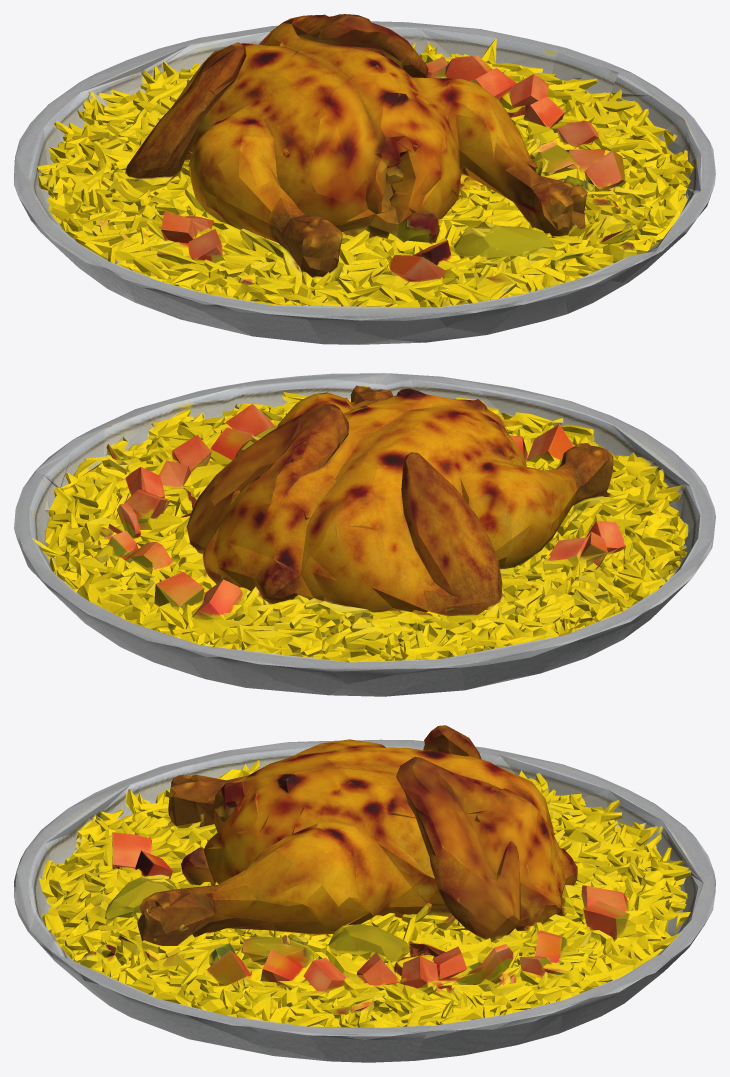
Rendered from chicken-rice-693240.glb.
3 renders of one model, top to bottom at view 1: azimuth 30°, elevation 25°; view 2: azimuth 150°, elevation 25°; view 3: azimuth 270°, elevation 25°, orthographic.
Visible parts, largest first — view 1: Mesh_0; view 2: Mesh_0; view 3: Mesh_0.
Boxes of the visible parts, x1,y1,x2,y2 form: Mesh_0: (14,14,715,344); Mesh_0: (14,373,715,696); Mesh_0: (14,725,715,1062).
Size of the model in its own units: 1.9 by 0.547 by 1.9.
Materials: 1 (1 with a texture image).
